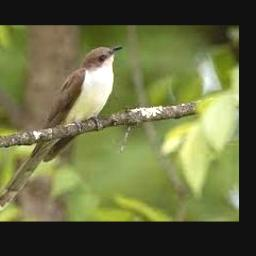Cuckoo: (0, 45, 124, 211)
